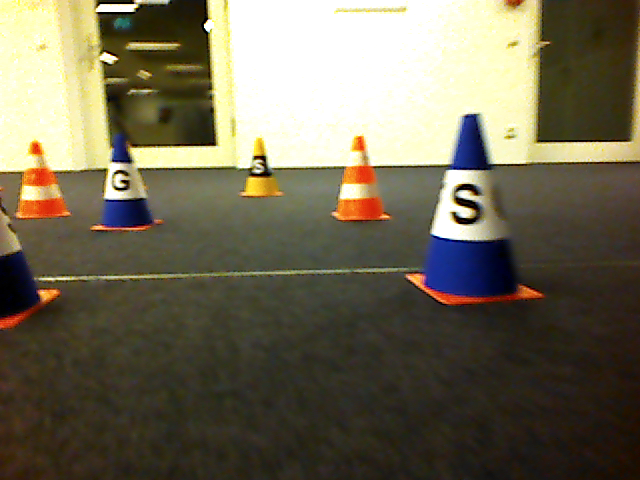bluecone: (404, 111, 549, 307), (85, 132, 168, 233)
orangeconesmall: (331, 135, 393, 223), (14, 140, 73, 221)
